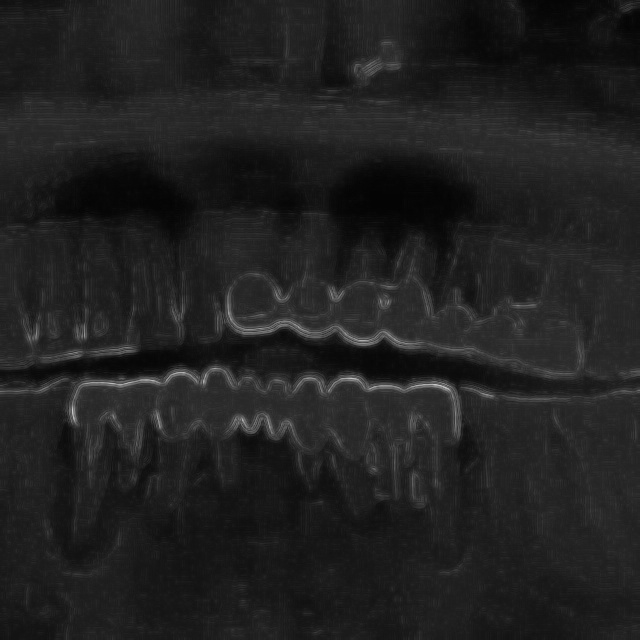Class 1- complete endodontic treatment: (277, 193, 354, 349)
Class 2- incomplete endodontic treatment: (322, 371, 487, 586), (48, 364, 168, 586), (332, 201, 453, 356), (418, 211, 495, 377)
cavity: (522, 201, 602, 400), (191, 366, 251, 517)
